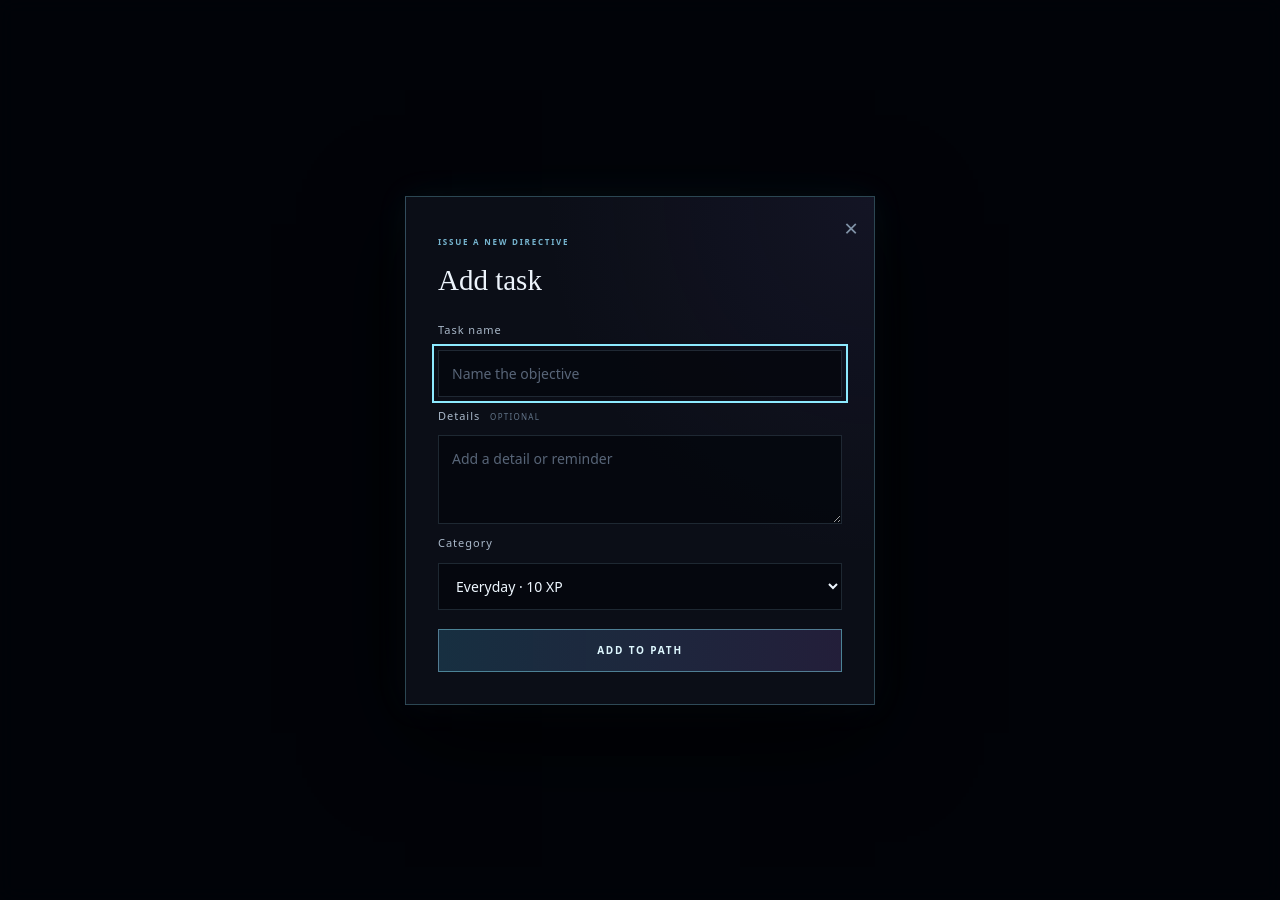
Test: TaskComposer › keeps the editor open and surfaces save failures
The image size is (1280, 900).
Type "Call home" into the field labelled "Task name" at (640, 373), box top-left (438, 350), bottom-right (842, 396)
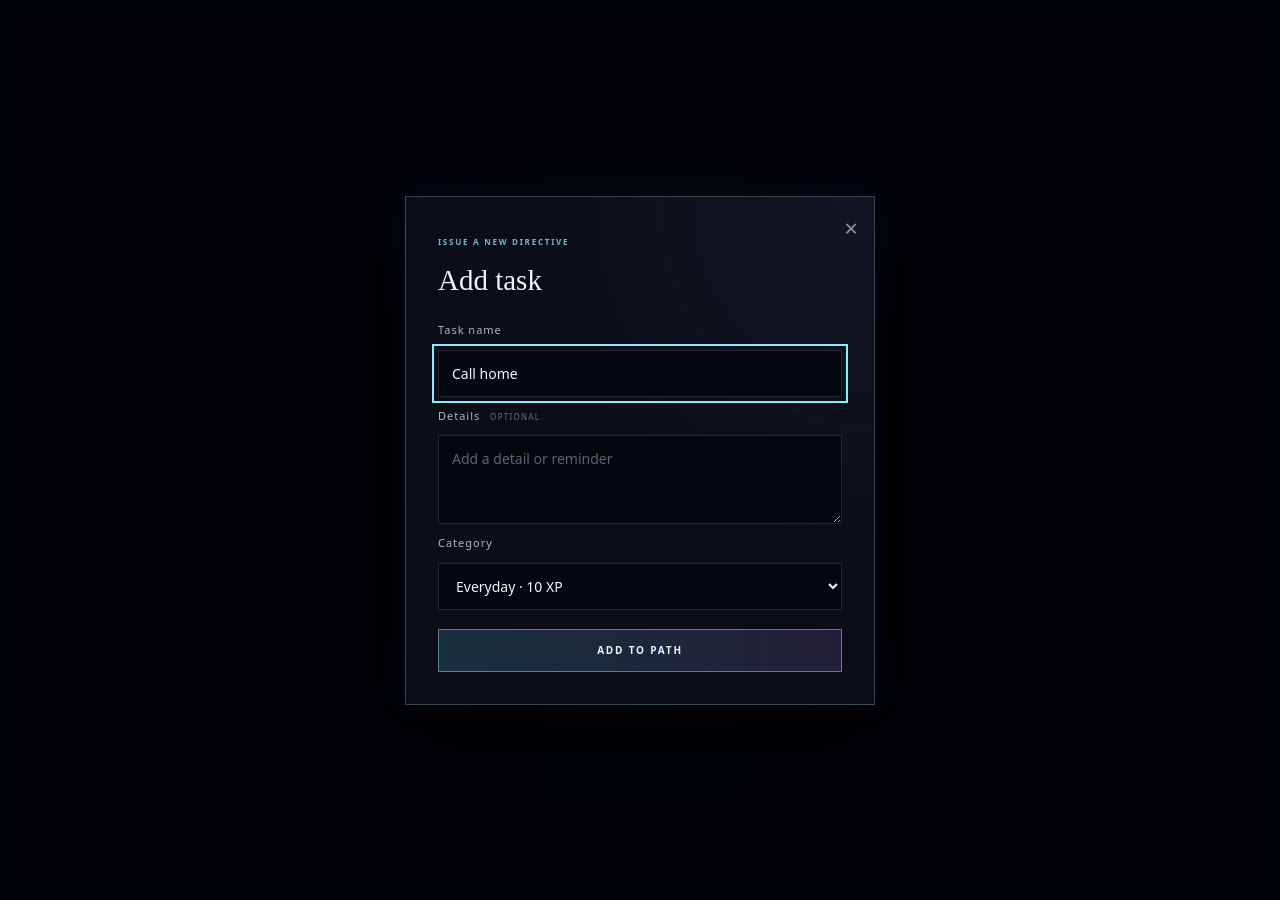
Click the button "ADD TO PATH" at (640, 650), box top-left (438, 628), bottom-right (842, 672)
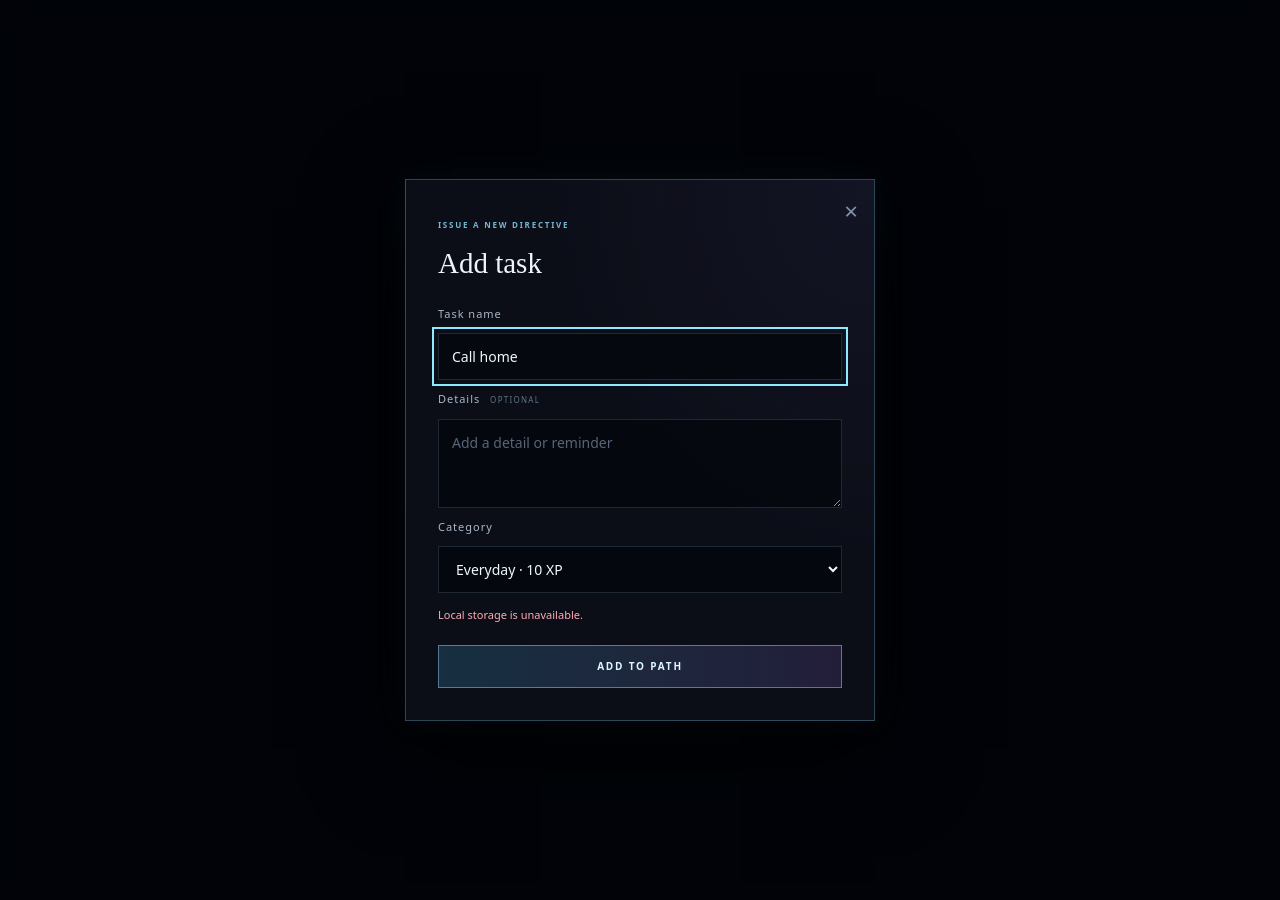
Expected: the message reads "Local storage is unavailable.", top-left (438, 607), bottom-right (583, 622)
